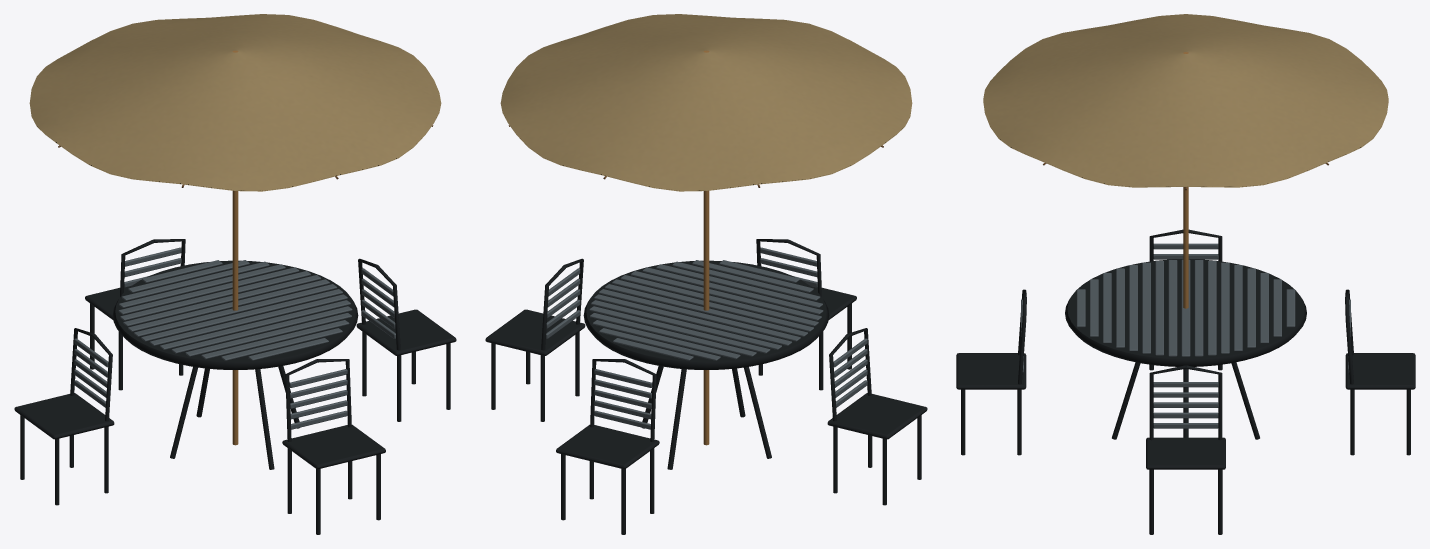
File: PatioSet.fbx
3 views of the same model, side by side, from view 1: azimuth 30°, elevation 25°; view 2: azimuth 150°, elevation 25°; view 3: azimuth 270°, elevation 25° (orthographic).
Visible parts, largest first — view 1: PatioSet__Umbrella, PatioSet__Body; view 2: PatioSet__Umbrella, PatioSet__Body; view 3: PatioSet__Umbrella, PatioSet__Body.
Part boxes in pixels (x1=…): PatioSet__Umbrella: x1=29, y1=14, x2=441, y2=191; PatioSet__Body: x1=14, y1=50, x2=456, y2=534; PatioSet__Umbrella: x1=500, y1=14, x2=912, y2=191; PatioSet__Body: x1=485, y1=50, x2=927, y2=534; PatioSet__Umbrella: x1=983, y1=14, x2=1388, y2=190; PatioSet__Body: x1=956, y1=52, x2=1415, y2=534.
Bounding box in the file's own units: 241 × 224 × 241.
Materials: 1 (1 with a texture image).
